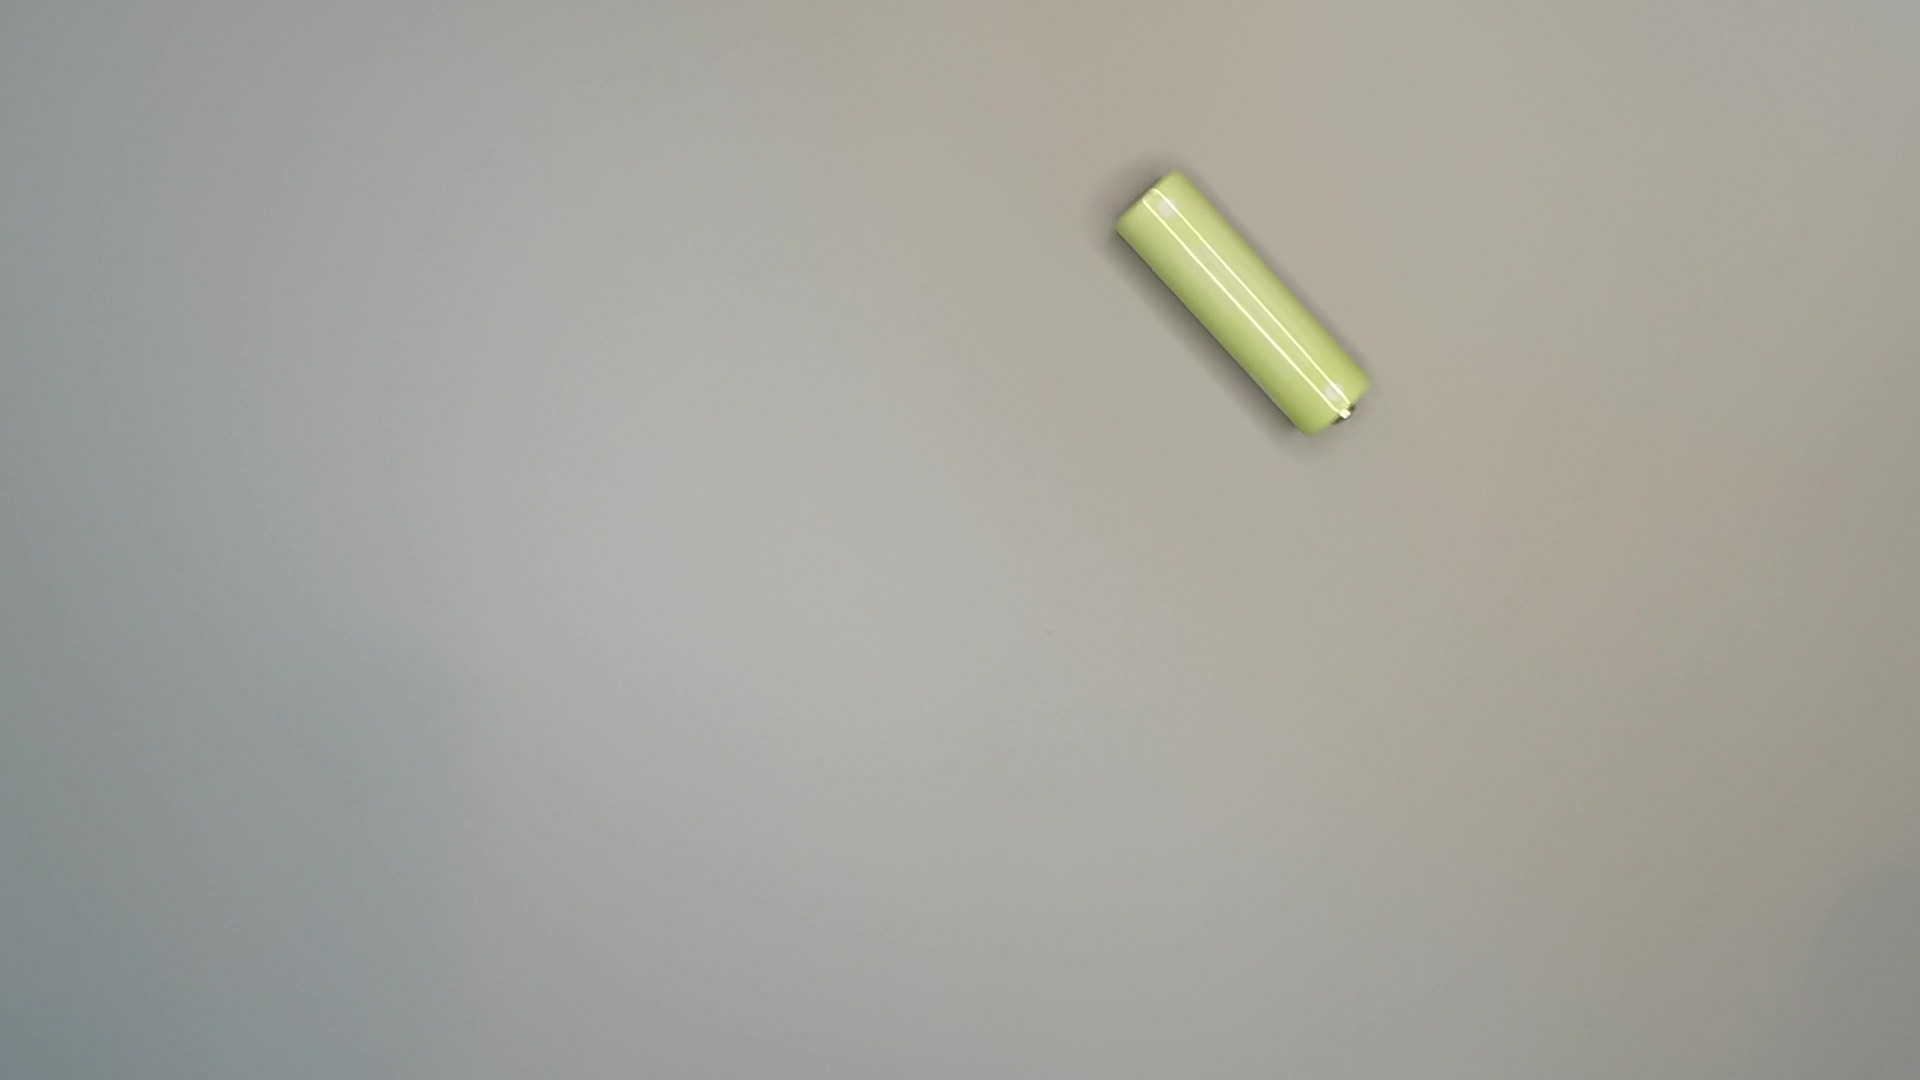battery: (1114, 167, 1385, 433)
